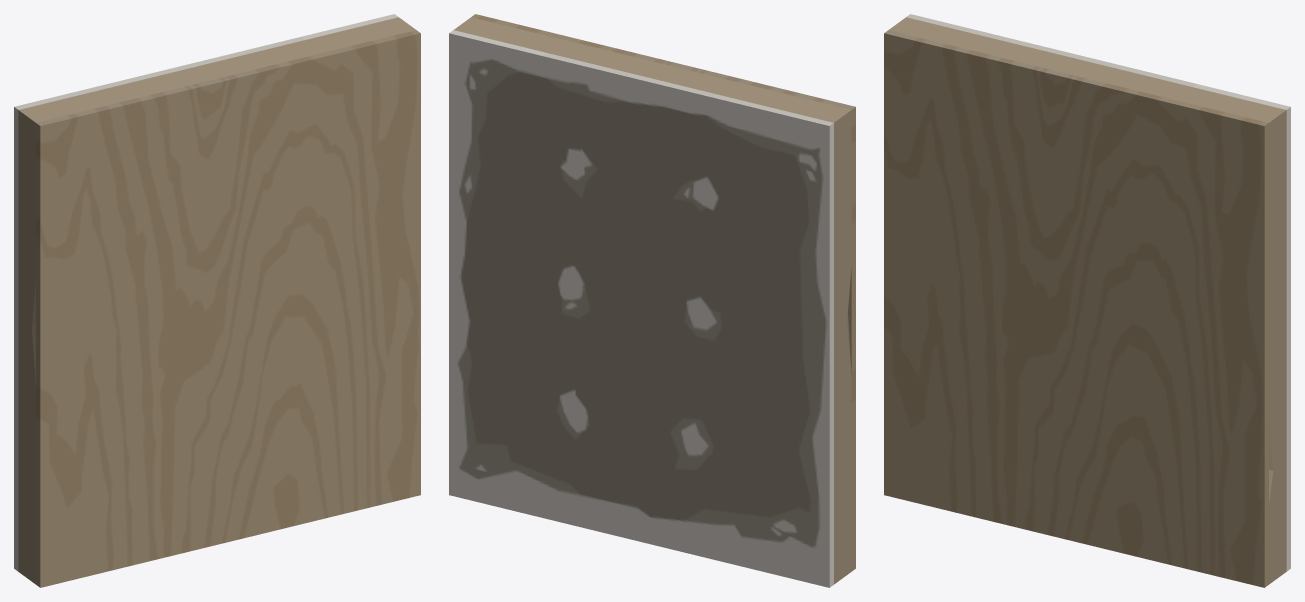
Rendered from SM_Bld_House_Wall_03.glb.
The picture shows the model from 3 angles, left to right: view 1: azimuth 30°, elevation 25°; view 2: azimuth 150°, elevation 25°; view 3: azimuth 330°, elevation 25°; orthographic projection.
Visible parts, largest first — view 1: SM_Bld_House_Wall_03; view 2: SM_Bld_House_Wall_03; view 3: SM_Bld_House_Wall_03.
Boxes of the visible parts, x1,y1,x2,y2 form: SM_Bld_House_Wall_03: (14, 14, 420, 587); SM_Bld_House_Wall_03: (449, 14, 855, 587); SM_Bld_House_Wall_03: (884, 14, 1290, 587).
Bounding box in the file's own units: 2.5 × 2.9 × 0.3.
1 material, 1 textured.
